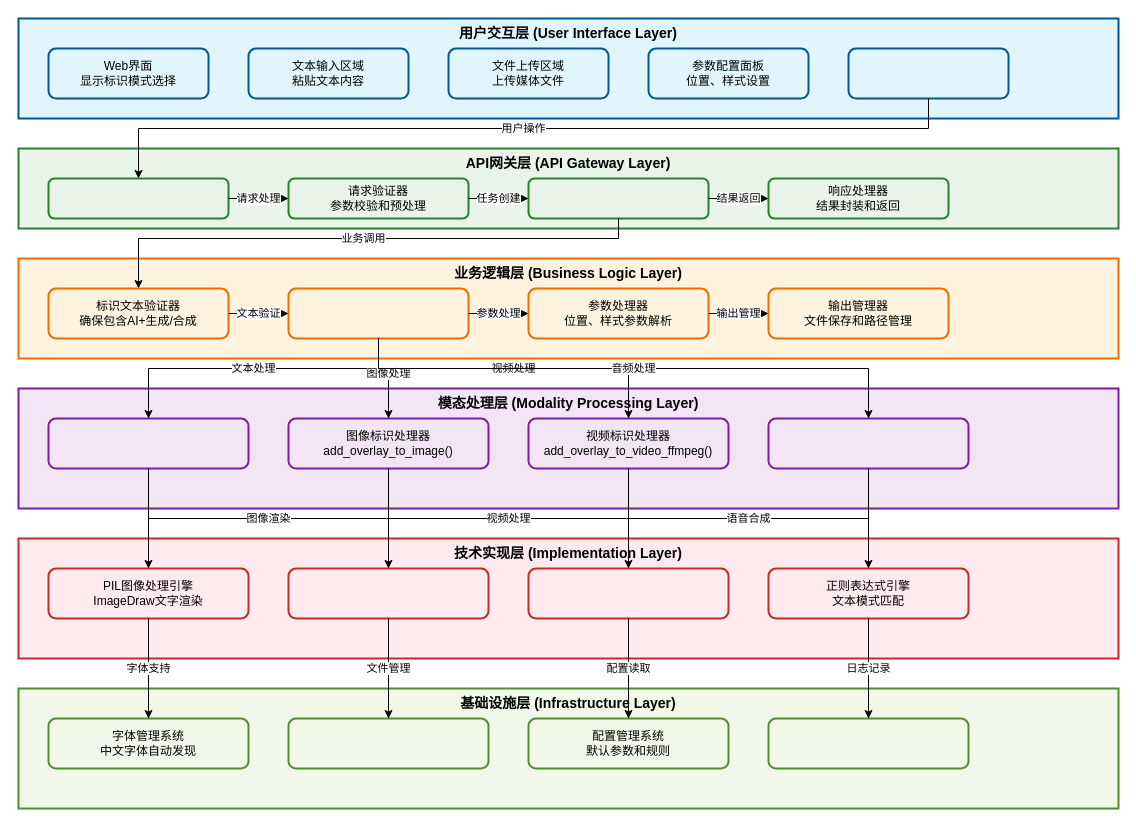
The diagram is 1136 pixels wide and 826 high, and some of its shapes have lost their labels. The centre of each missing label's shape, as x and y in pixels:
/api/visible_mark Flask REST API: point (138, 198)
Bark TTS语音合成 标识语音生成: point (628, 593)
FFmpeg视频处理引擎 文字水印覆盖: point (388, 593)
任务管理器 状态跟踪和进度更新: point (618, 198)
文件系统管理 输入输出文件处理: point (388, 743)
文本标识处理器 add_text_mark_to_text(): point (148, 443)
日志记录系统 操作日志和错误跟踪: point (868, 743)
模态分发器 根据内容类型选择处理器: point (378, 313)
音频标识处理器 add_voice_mark_to_audio(): point (868, 443)
🏷️ 添加标识按钮: point (928, 73)
